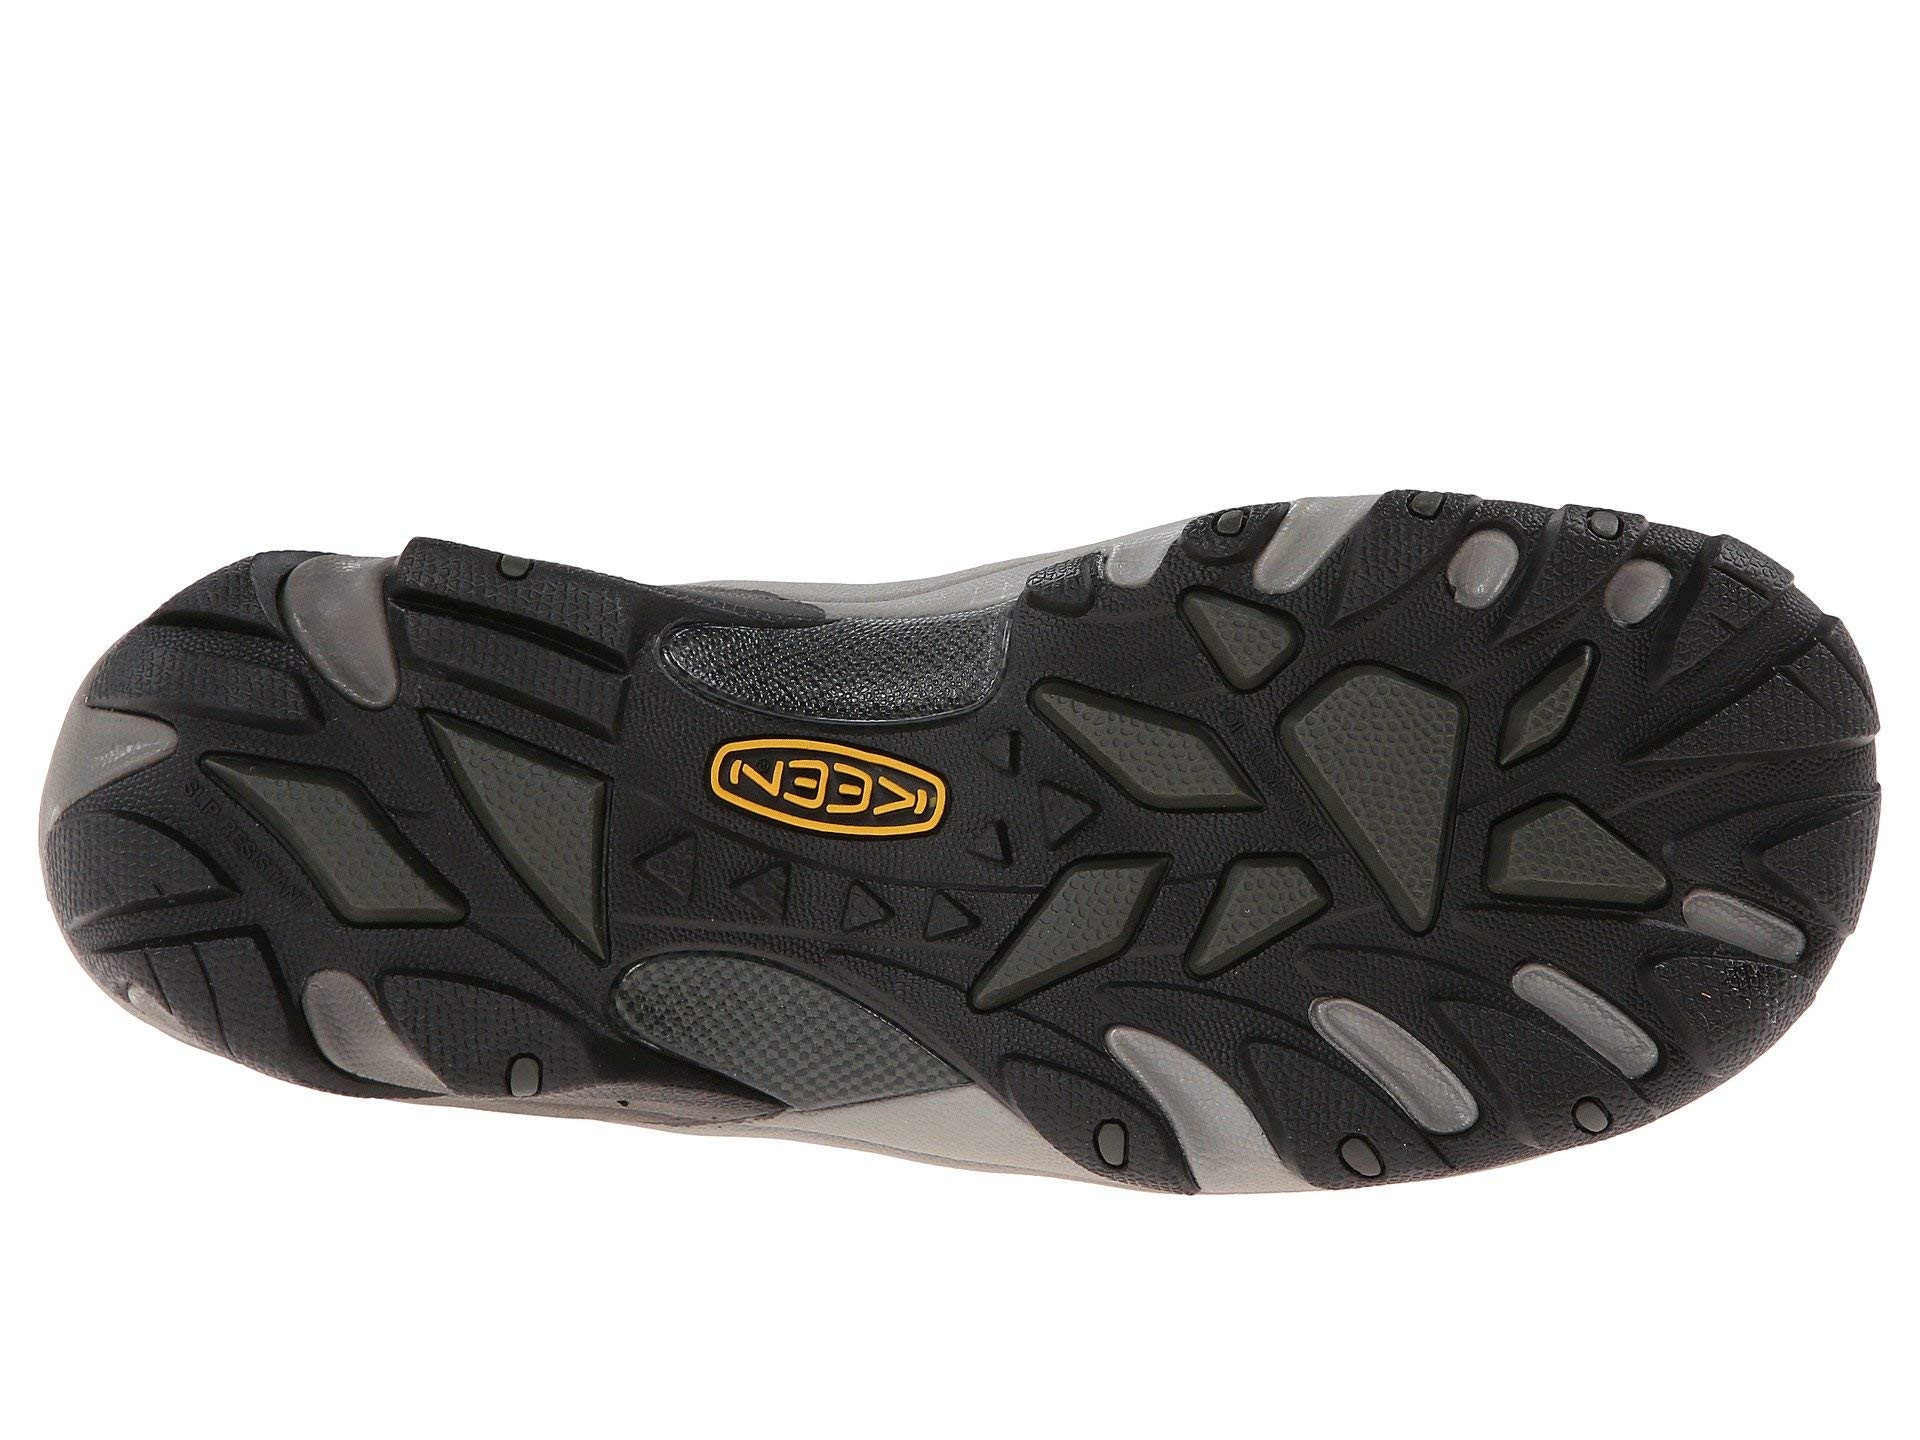circle: (1557, 495, 1788, 709), (1456, 1004, 1628, 1148)
line: (1557, 495, 1788, 709), (821, 867, 1001, 965)
quad: (1126, 567, 1473, 971), (679, 703, 968, 852)
text: (679, 703, 968, 852)
triangle: (1126, 567, 1473, 971), (1557, 495, 1788, 709), (821, 867, 1001, 965)
